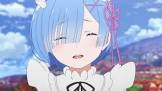rem: (27, 1, 133, 91)
